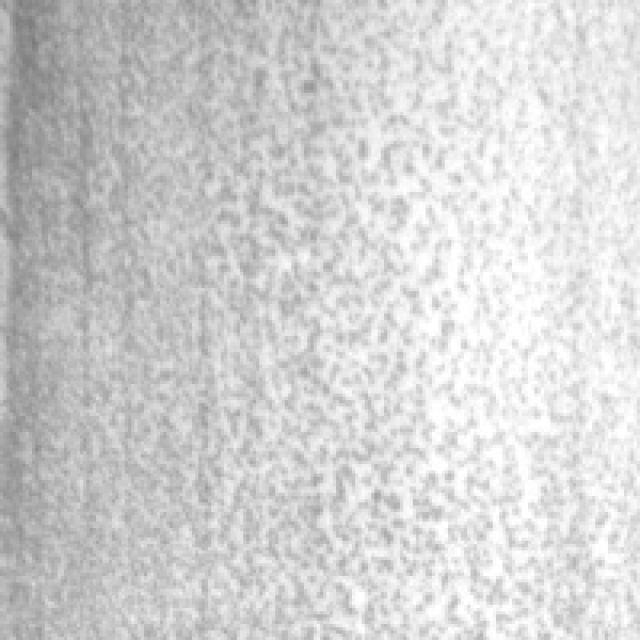pitted_surface: (198, 0, 634, 637)
